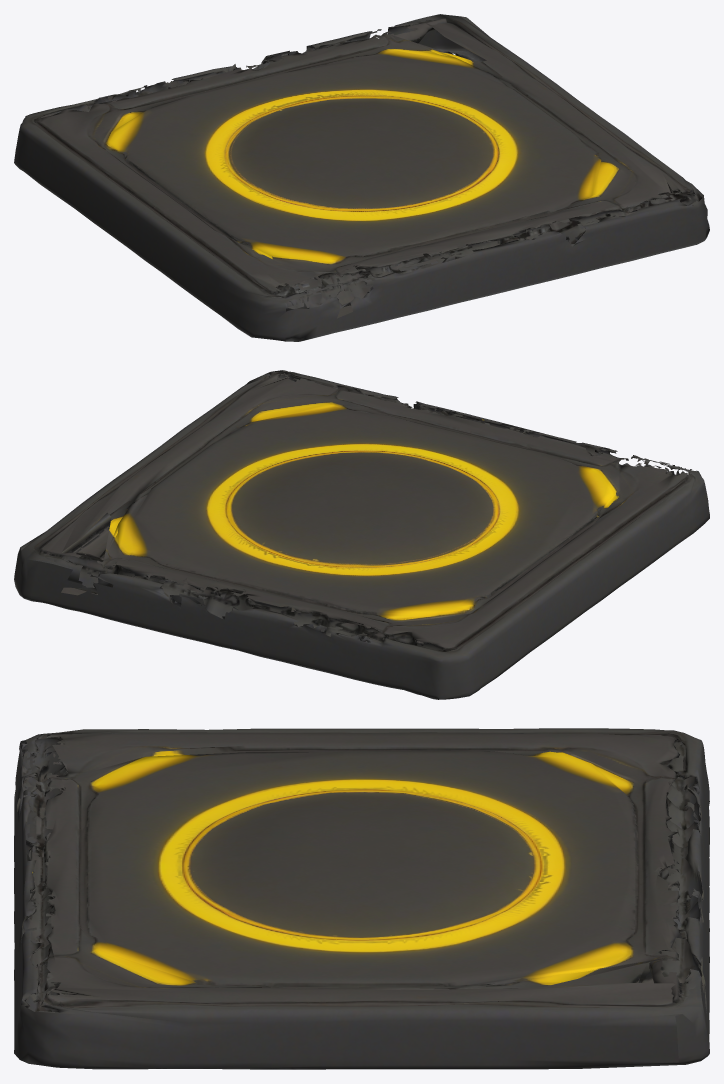
File: Radiant_Circle_0926200752_texture.fbx
3 renders of one model, top to bottom at view 1: azimuth 30°, elevation 25°; view 2: azimuth 150°, elevation 25°; view 3: azimuth 270°, elevation 25°, orthographic. The views are drawn at different scales.
Parts seen in each view (by area): view 1: Mesh0; view 2: Mesh0; view 3: Mesh0.
Part boxes in pixels (x1=…): Mesh0: x1=14, y1=14, x2=709, y2=341; Mesh0: x1=14, y1=370, x2=709, y2=699; Mesh0: x1=14, y1=728, x2=709, y2=1069.
Size of the model in its own units: 191 by 21.44 by 191.
1 material, 1 textured.
